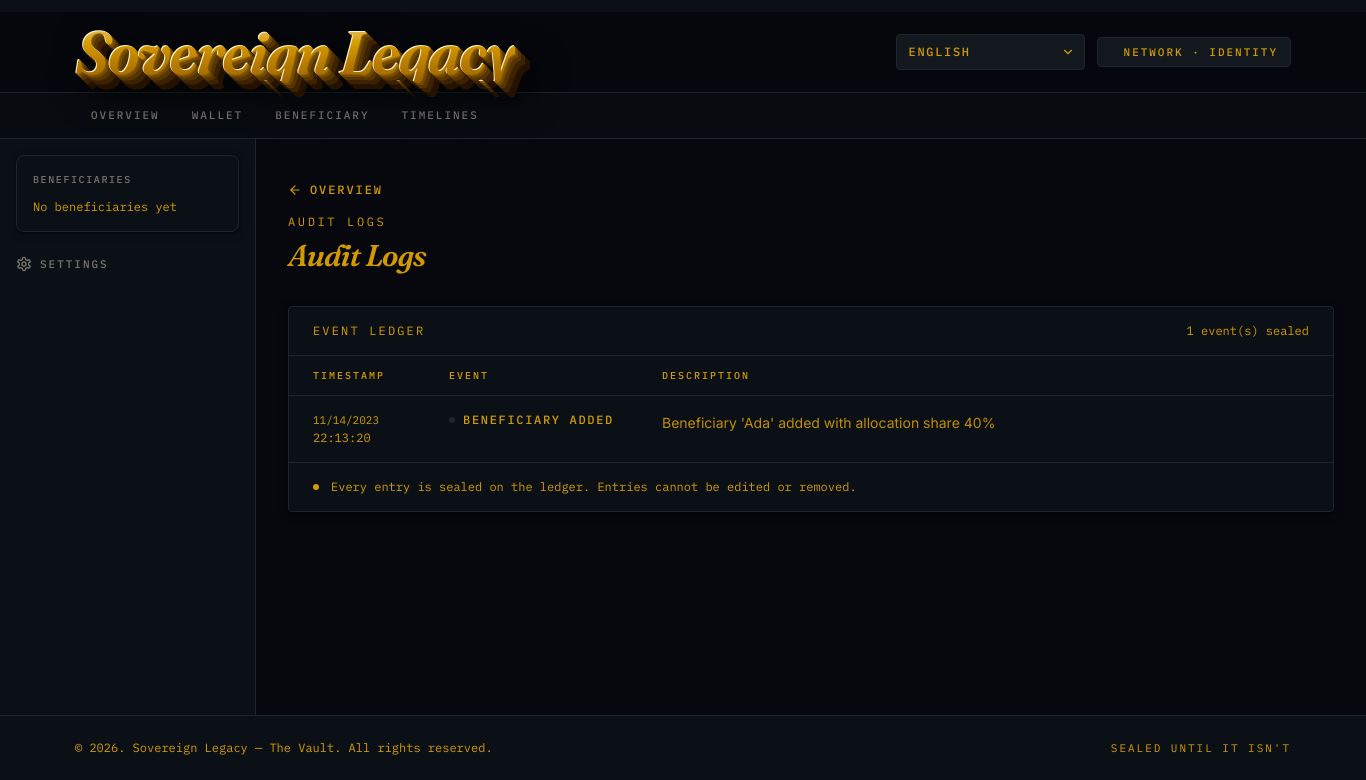
Test case: AuditLogPage cover (localized event types and descriptions) › re-renders event-type labels and descriptions in Spanish immediately
Expected: the text "Beneficiary added" is shown, [463,412,614,428]
Select "Español" in the dropdown named "Language" at (990, 52), box [896,34,1084,70]
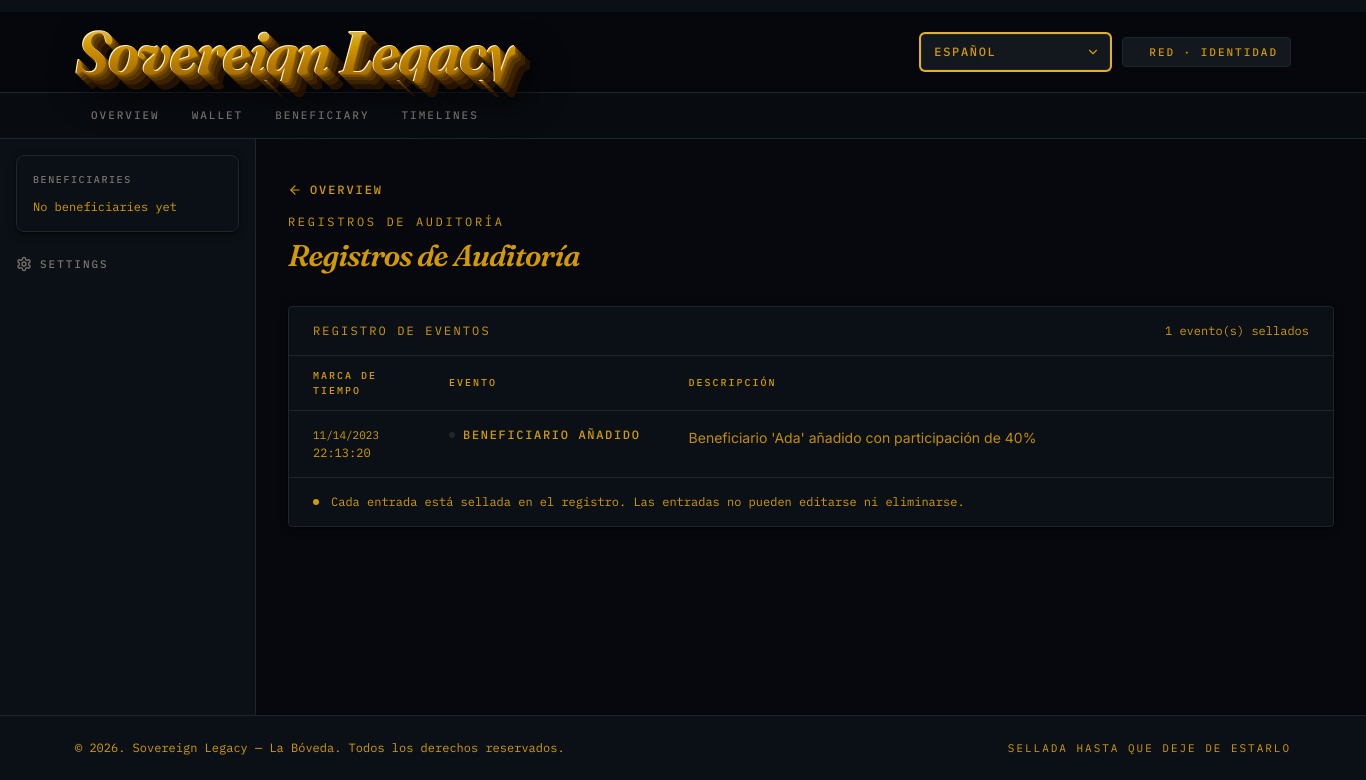
Result: the text "Beneficiario añadido" is shown at [463,426,641,442]
Result: the text "Beneficiario 'Ada' añadido con participación de 40%" is shown at [689,428,1036,446]
